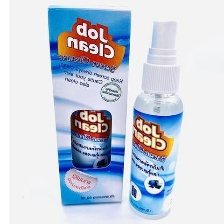book: (44, 2, 135, 210)
cleaning_solution: (126, 17, 186, 222)
